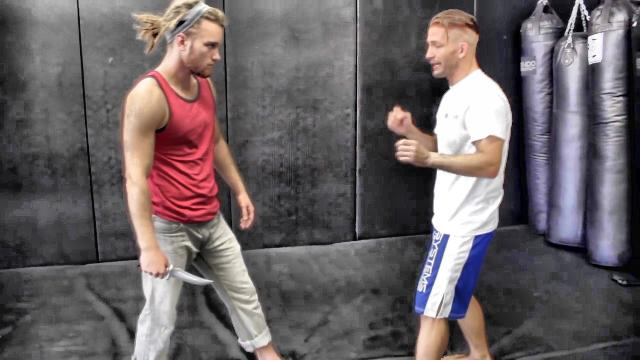knife: (134, 252, 218, 292)
